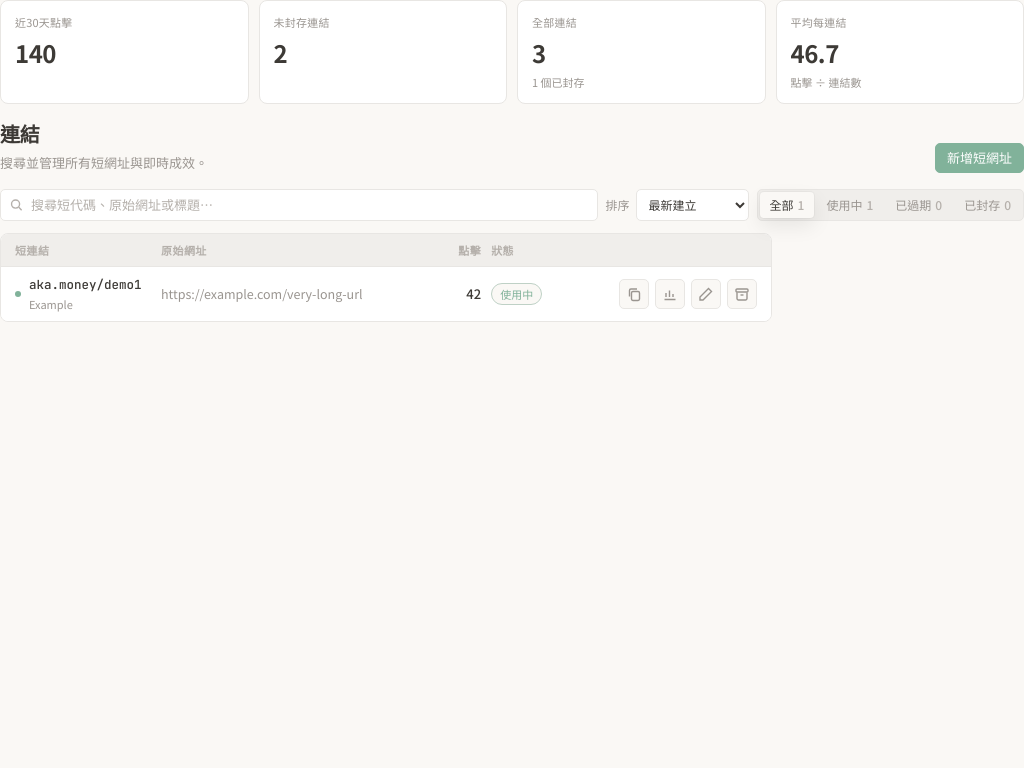
DashboardView › archives a URL after confirming in the modal, refreshes KPI, and shows a success toast
Click the button with test id "row-archive" at (742, 294), box [727, 279, 757, 309]
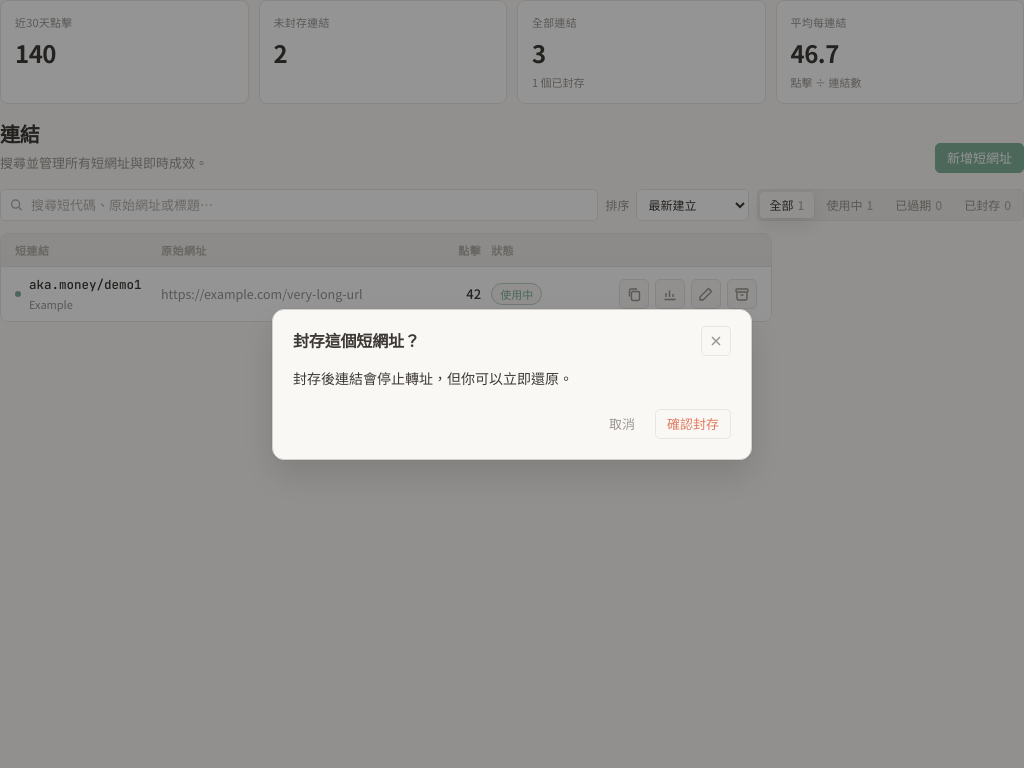
Click the button with test id "confirm-action" at (693, 424), box [655, 408, 731, 438]
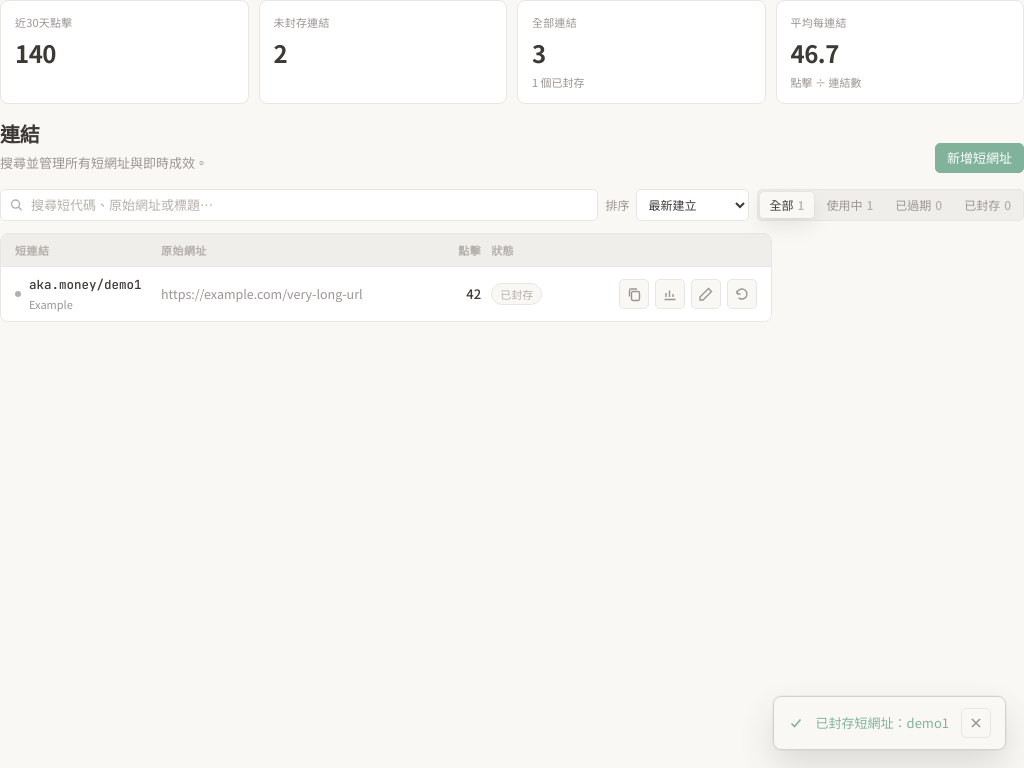
Now the text "已封存短網址" is shown, box [816, 713, 949, 732]
